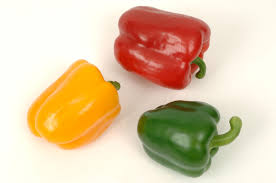bell pepper: (17, 53, 123, 152), (135, 95, 245, 177), (112, 4, 211, 93)
